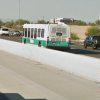Bus: (19, 19, 76, 53)
